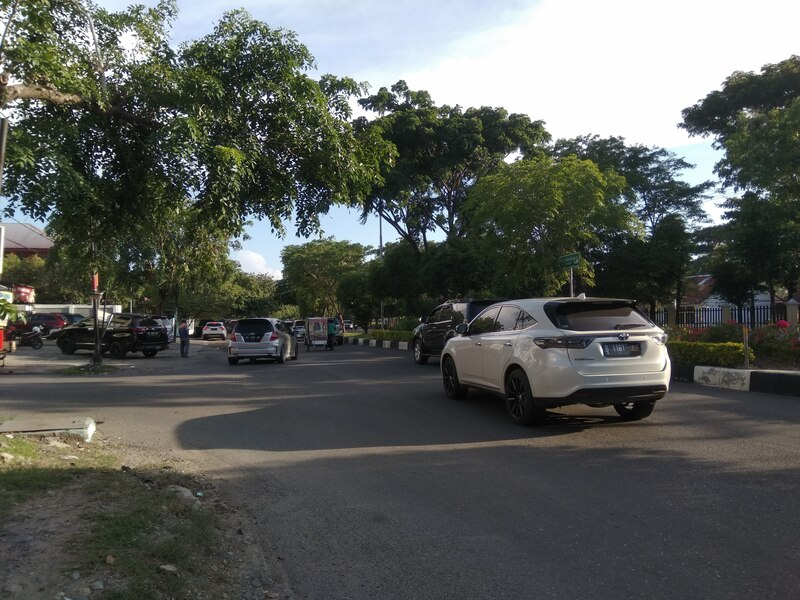car: (437, 291, 677, 430), (407, 298, 528, 368), (225, 317, 303, 368)
